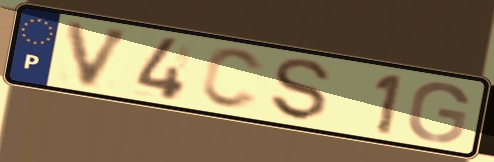1: (372, 72, 406, 136)
4: (134, 34, 189, 101)
C: (197, 46, 267, 112)
G: (404, 81, 472, 145)
S: (270, 56, 334, 124)
V: (64, 19, 137, 91)
